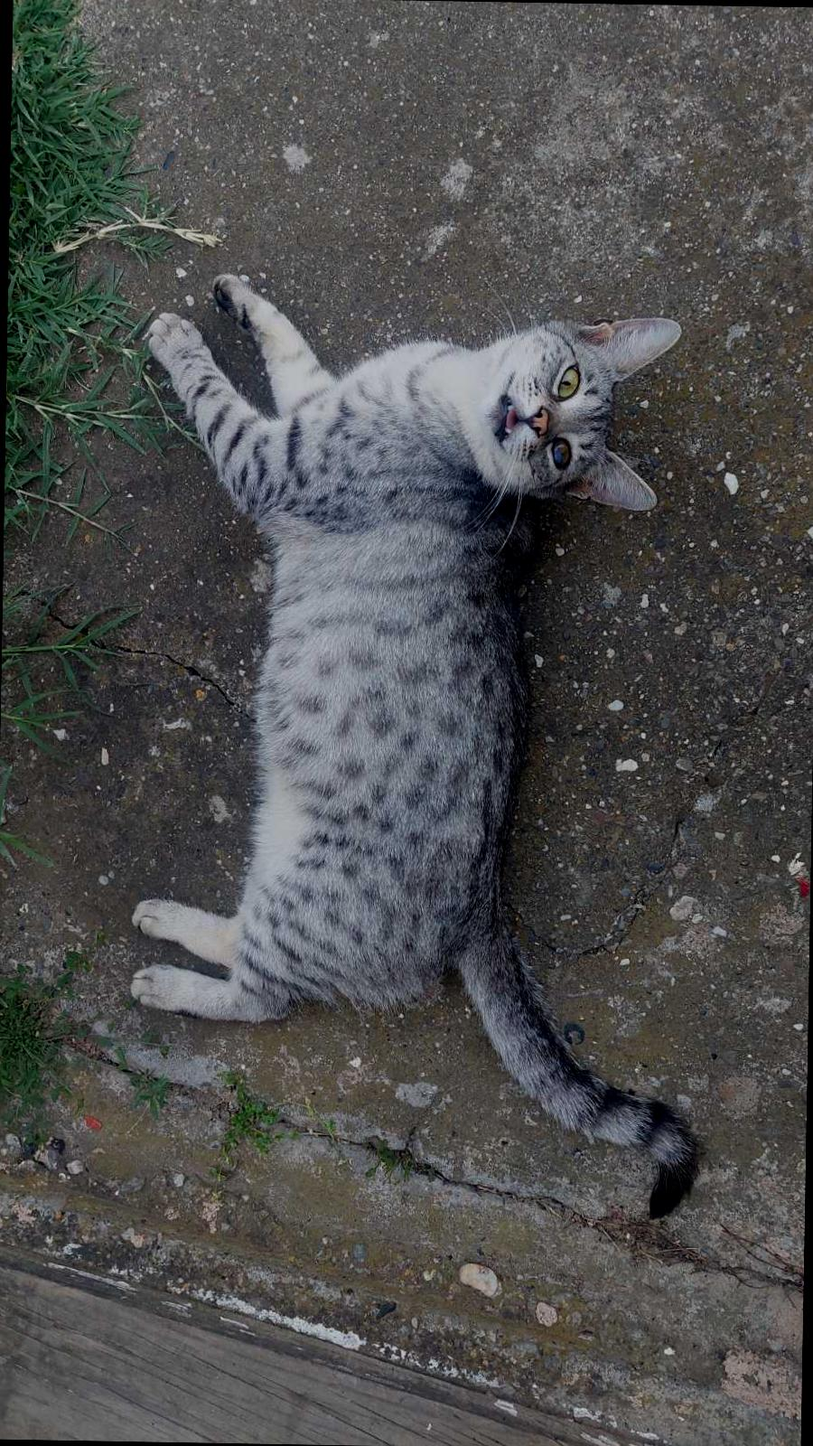macka: (126, 267, 722, 1226)
